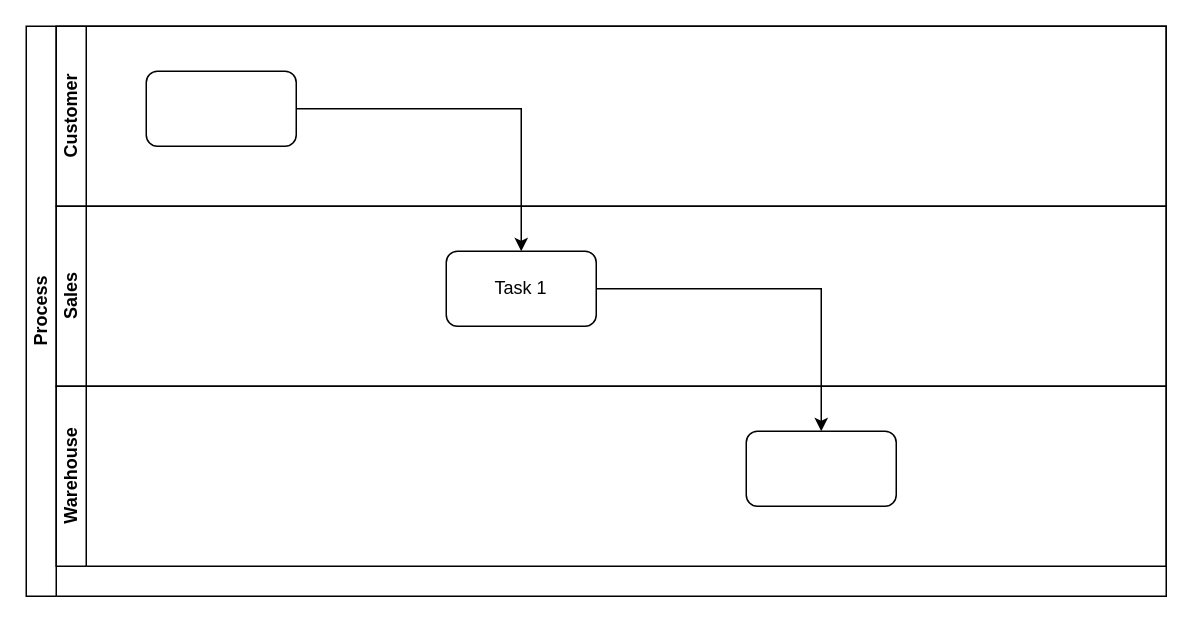
The diagram is 1193 pixels wide and 623 high, and some of its shapes have lost their labels. Here are the shapes that lost their labels. From the top down, the centre of each, then its label:
the point at 220,108: Task 0
the point at 820,468: Task 2
